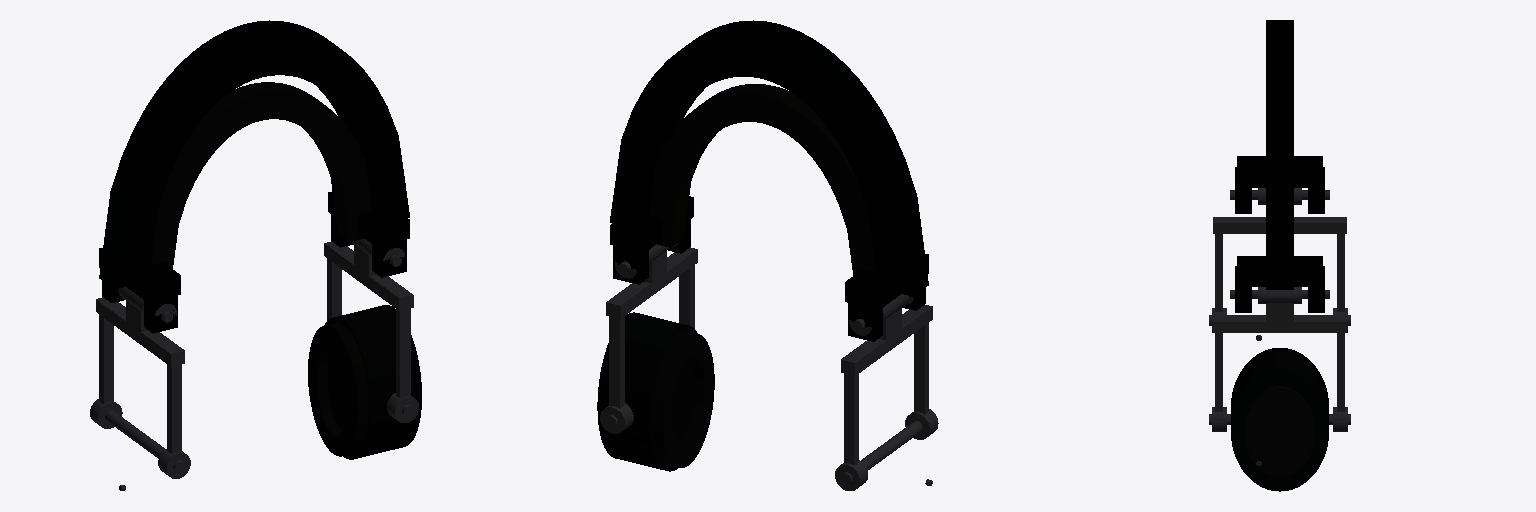
robot.urdf — fold_flat_noise_canceling_headphones:
<robot name="fold_flat_noise_canceling_headphones">
  <link name="headband">
    <visual name="outer_arch">
      <geometry>
        <mesh filename="assets/meshes/headband_arch.obj" />
        </geometry>
      <material name="matte_black_plastic">
        <color rgba="0.005 0.006 0.007 1" />
        </material>
      </visual>
    <visual name="inner_pad">
      <geometry>
        <mesh filename="assets/meshes/headband_pad.obj" />
        </geometry>
      <material name="soft_charcoal_cushion">
        <color rgba="0.025 0.023 0.022 1" />
        </material>
      </visual>
    <visual name="left_hinge_bridge">
      <origin xyz="-0.112 0 0.116" rpy="0 0 0" />
      <geometry>
        <box size="0.033 0.082 0.018" />
        </geometry>
      <material name="matte_black_plastic">
        <color rgba="0.005 0.006 0.007 1" />
        </material>
      </visual>
    <visual name="left_front_hinge_ear">
      <origin xyz="-0.112 -0.035 0.097" rpy="0 0 0" />
      <geometry>
        <box size="0.025 0.016 0.038" />
        </geometry>
      <material name="matte_black_plastic">
        <color rgba="0.005 0.006 0.007 1" />
        </material>
      </visual>
    <visual name="left_front_hinge_knuckle">
      <origin xyz="-0.112 -0.035 0.092" rpy="1.5708 0 0" />
      <geometry>
        <cylinder radius="0.011" length="0.016" />
        </geometry>
      <material name="dark_anodized_metal">
        <color rgba="0.17 0.17 0.18 1" />
        </material>
      </visual>
    <visual name="left_rear_hinge_ear">
      <origin xyz="-0.112 0.035 0.097" rpy="0 0 0" />
      <geometry>
        <box size="0.025 0.016 0.038" />
        </geometry>
      <material name="matte_black_plastic">
        <color rgba="0.005 0.006 0.007 1" />
        </material>
      </visual>
    <visual name="left_rear_hinge_knuckle">
      <origin xyz="-0.112 0.035 0.092" rpy="1.5708 0 0" />
      <geometry>
        <cylinder radius="0.011" length="0.016" />
        </geometry>
      <material name="dark_anodized_metal">
        <color rgba="0.17 0.17 0.18 1" />
        </material>
      </visual>
    <visual name="left_fold_pin">
      <origin xyz="-0.112 0 0.092" rpy="1.5708 0 0" />
      <geometry>
        <cylinder radius="0.0045" length="0.096" />
        </geometry>
      <material name="dark_anodized_metal">
        <color rgba="0.17 0.17 0.18 1" />
        </material>
      </visual>
    <visual name="right_hinge_bridge">
      <origin xyz="0.112 0 0.116" rpy="0 0 0" />
      <geometry>
        <box size="0.033 0.082 0.018" />
        </geometry>
      <material name="matte_black_plastic">
        <color rgba="0.005 0.006 0.007 1" />
        </material>
      </visual>
    <visual name="right_front_hinge_ear">
      <origin xyz="0.112 -0.035 0.097" rpy="0 0 0" />
      <geometry>
        <box size="0.025 0.016 0.038" />
        </geometry>
      <material name="matte_black_plastic">
        <color rgba="0.005 0.006 0.007 1" />
        </material>
      </visual>
    <visual name="right_front_hinge_knuckle">
      <origin xyz="0.112 -0.035 0.092" rpy="1.5708 0 0" />
      <geometry>
        <cylinder radius="0.011" length="0.016" />
        </geometry>
      <material name="dark_anodized_metal">
        <color rgba="0.17 0.17 0.18 1" />
        </material>
      </visual>
    <visual name="right_rear_hinge_ear">
      <origin xyz="0.112 0.035 0.097" rpy="0 0 0" />
      <geometry>
        <box size="0.025 0.016 0.038" />
        </geometry>
      <material name="matte_black_plastic">
        <color rgba="0.005 0.006 0.007 1" />
        </material>
      </visual>
    <visual name="right_rear_hinge_knuckle">
      <origin xyz="0.112 0.035 0.092" rpy="1.5708 0 0" />
      <geometry>
        <cylinder radius="0.011" length="0.016" />
        </geometry>
      <material name="dark_anodized_metal">
        <color rgba="0.17 0.17 0.18 1" />
        </material>
      </visual>
    <visual name="right_fold_pin">
      <origin xyz="0.112 0 0.092" rpy="1.5708 0 0" />
      <geometry>
        <cylinder radius="0.0045" length="0.096" />
        </geometry>
      <material name="dark_anodized_metal">
        <color rgba="0.17 0.17 0.18 1" />
        </material>
      </visual>
    <collision name="outer_arch">
      <geometry>
        <mesh filename="assets/meshes/headband_arch.obj" />
        </geometry>
      </collision>
    <collision name="inner_pad">
      <geometry>
        <mesh filename="assets/meshes/headband_pad.obj" />
        </geometry>
      </collision>
    <collision name="left_hinge_bridge">
      <origin xyz="-0.112 0 0.116" rpy="0 0 0" />
      <geometry>
        <box size="0.033 0.082 0.018" />
        </geometry>
      </collision>
    <collision name="left_front_hinge_ear">
      <origin xyz="-0.112 -0.035 0.097" rpy="0 0 0" />
      <geometry>
        <box size="0.025 0.016 0.038" />
        </geometry>
      </collision>
    <collision name="left_front_hinge_knuckle">
      <origin xyz="-0.112 -0.035 0.092" rpy="1.5708 0 0" />
      <geometry>
        <cylinder radius="0.011" length="0.016" />
        </geometry>
      </collision>
    <collision name="left_rear_hinge_ear">
      <origin xyz="-0.112 0.035 0.097" rpy="0 0 0" />
      <geometry>
        <box size="0.025 0.016 0.038" />
        </geometry>
      </collision>
    <collision name="left_rear_hinge_knuckle">
      <origin xyz="-0.112 0.035 0.092" rpy="1.5708 0 0" />
      <geometry>
        <cylinder radius="0.011" length="0.016" />
        </geometry>
      </collision>
    <collision name="left_fold_pin">
      <origin xyz="-0.112 0 0.092" rpy="1.5708 0 0" />
      <geometry>
        <cylinder radius="0.0045" length="0.096" />
        </geometry>
      </collision>
    <collision name="right_hinge_bridge">
      <origin xyz="0.112 0 0.116" rpy="0 0 0" />
      <geometry>
        <box size="0.033 0.082 0.018" />
        </geometry>
      </collision>
    <collision name="right_front_hinge_ear">
      <origin xyz="0.112 -0.035 0.097" rpy="0 0 0" />
      <geometry>
        <box size="0.025 0.016 0.038" />
        </geometry>
      </collision>
    <collision name="right_front_hinge_knuckle">
      <origin xyz="0.112 -0.035 0.092" rpy="1.5708 0 0" />
      <geometry>
        <cylinder radius="0.011" length="0.016" />
        </geometry>
      </collision>
    <collision name="right_rear_hinge_ear">
      <origin xyz="0.112 0.035 0.097" rpy="0 0 0" />
      <geometry>
        <box size="0.025 0.016 0.038" />
        </geometry>
      </collision>
    <collision name="right_rear_hinge_knuckle">
      <origin xyz="0.112 0.035 0.092" rpy="1.5708 0 0" />
      <geometry>
        <cylinder radius="0.011" length="0.016" />
        </geometry>
      </collision>
    <collision name="right_fold_pin">
      <origin xyz="0.112 0 0.092" rpy="1.5708 0 0" />
      <geometry>
        <cylinder radius="0.0045" length="0.096" />
        </geometry>
      </collision>
    </link>
  <link name="left_yoke">
    <visual name="fold_barrel">
      <origin xyz="0 0 0" rpy="1.5708 0 0" />
      <geometry>
        <cylinder radius="0.0095" length="0.042" />
        </geometry>
      <material name="dark_anodized_metal">
        <color rgba="0.17 0.17 0.18 1" />
        </material>
      </visual>
    <visual name="fold_neck">
      <origin xyz="0 0 -0.014" rpy="0 0 0" />
      <geometry>
        <box size="0.014 0.026 0.026" />
        </geometry>
      <material name="dark_anodized_metal">
        <color rgba="0.17 0.17 0.18 1" />
        </material>
      </visual>
    <visual name="top_bridge">
      <origin xyz="0 0 -0.032" rpy="0 0 0" />
      <geometry>
        <box size="0.014 0.128 0.012" />
        </geometry>
      <material name="dark_anodized_metal">
        <color rgba="0.17 0.17 0.18 1" />
        </material>
      </visual>
    <visual name="front_arm">
      <origin xyz="0 -0.058 -0.083" rpy="0 0 0" />
      <geometry>
        <box size="0.01 0.008 0.106" />
        </geometry>
      <material name="dark_anodized_metal">
        <color rgba="0.17 0.17 0.18 1" />
        </material>
      </visual>
    <visual name="pivot_collar_front">
      <origin xyz="0 -0.058 -0.132" rpy="1.5708 0 0" />
      <geometry>
        <cylinder radius="0.012" length="0.014" />
        </geometry>
      <material name="dark_anodized_metal">
        <color rgba="0.17 0.17 0.18 1" />
        </material>
      </visual>
    <visual name="rear_arm">
      <origin xyz="0 0.058 -0.083" rpy="0 0 0" />
      <geometry>
        <box size="0.01 0.008 0.106" />
        </geometry>
      <material name="dark_anodized_metal">
        <color rgba="0.17 0.17 0.18 1" />
        </material>
      </visual>
    <visual name="pivot_collar_rear">
      <origin xyz="0 0.058 -0.132" rpy="1.5708 0 0" />
      <geometry>
        <cylinder radius="0.012" length="0.014" />
        </geometry>
      <material name="dark_anodized_metal">
        <color rgba="0.17 0.17 0.18 1" />
        </material>
      </visual>
    <collision name="fold_barrel">
      <origin xyz="0 0 0" rpy="1.5708 0 0" />
      <geometry>
        <cylinder radius="0.0095" length="0.042" />
        </geometry>
      </collision>
    <collision name="fold_neck">
      <origin xyz="0 0 -0.014" rpy="0 0 0" />
      <geometry>
        <box size="0.014 0.026 0.026" />
        </geometry>
      </collision>
    <collision name="top_bridge">
      <origin xyz="0 0 -0.032" rpy="0 0 0" />
      <geometry>
        <box size="0.014 0.128 0.012" />
        </geometry>
      </collision>
    <collision name="front_arm">
      <origin xyz="0 -0.058 -0.083" rpy="0 0 0" />
      <geometry>
        <box size="0.01 0.008 0.106" />
        </geometry>
      </collision>
    <collision name="pivot_collar_front">
      <origin xyz="0 -0.058 -0.132" rpy="1.5708 0 0" />
      <geometry>
        <cylinder radius="0.012" length="0.014" />
        </geometry>
      </collision>
    <collision name="rear_arm">
      <origin xyz="0 0.058 -0.083" rpy="0 0 0" />
      <geometry>
        <box size="0.01 0.008 0.106" />
        </geometry>
      </collision>
    <collision name="pivot_collar_rear">
      <origin xyz="0 0.058 -0.132" rpy="1.5708 0 0" />
      <geometry>
        <cylinder radius="0.012" length="0.014" />
        </geometry>
      </collision>
    </link>
  <link name="left_cup">
    <visual name="oval_shell">
      <geometry>
        <mesh filename="assets/meshes/left_cup_shell.obj" />
        </geometry>
      <material name="satin_black_shell">
        <color rgba="0.015 0.016 0.018 1" />
        </material>
      </visual>
    <visual name="ear_cushion">
      <origin xyz="0.028 0 0" rpy="0 0 0" />
      <geometry>
        <mesh filename="assets/meshes/left_ear_cushion.obj" />
        </geometry>
      <material name="soft_charcoal_cushion">
        <color rgba="0.025 0.023 0.022 1" />
        </material>
      </visual>
    <visual name="outer_plate">
      <origin xyz="-0.027 0 0" rpy="0 0 0" />
      <geometry>
        <mesh filename="assets/meshes/left_outer_plate.obj" />
        </geometry>
      <material name="smoked_accent_plate">
        <color rgba="0.035 0.038 0.043 1" />
        </material>
      </visual>
    <visual name="pivot_pin">
      <origin xyz="0 0 0" rpy="1.5708 0 0" />
      <geometry>
        <cylinder radius="0.0052" length="0.136" />
        </geometry>
      <material name="dark_anodized_metal">
        <color rgba="0.17 0.17 0.18 1" />
        </material>
      </visual>
    <visual name="mic_port">
      <origin xyz="-0.029 -0.02 -0.032" rpy="0 1.5708 0" />
      <geometry>
        <cylinder radius="0.0026" length="0.004" />
        </geometry>
      <material name="dark_anodized_metal">
        <color rgba="0.17 0.17 0.18 1" />
        </material>
      </visual>
    <collision name="oval_shell">
      <geometry>
        <mesh filename="assets/meshes/left_cup_shell.obj" />
        </geometry>
      </collision>
    <collision name="ear_cushion">
      <origin xyz="0.028 0 0" rpy="0 0 0" />
      <geometry>
        <mesh filename="assets/meshes/left_ear_cushion.obj" />
        </geometry>
      </collision>
    <collision name="outer_plate">
      <origin xyz="-0.027 0 0" rpy="0 0 0" />
      <geometry>
        <mesh filename="assets/meshes/left_outer_plate.obj" />
        </geometry>
      </collision>
    <collision name="pivot_pin">
      <origin xyz="0 0 0" rpy="1.5708 0 0" />
      <geometry>
        <cylinder radius="0.0052" length="0.136" />
        </geometry>
      </collision>
    <collision name="mic_port">
      <origin xyz="-0.029 -0.02 -0.032" rpy="0 1.5708 0" />
      <geometry>
        <cylinder radius="0.0026" length="0.004" />
        </geometry>
      </collision>
    </link>
  <link name="right_yoke">
    <visual name="fold_barrel">
      <origin xyz="0 0 0" rpy="1.5708 0 0" />
      <geometry>
        <cylinder radius="0.0095" length="0.042" />
        </geometry>
      <material name="dark_anodized_metal">
        <color rgba="0.17 0.17 0.18 1" />
        </material>
      </visual>
    <visual name="fold_neck">
      <origin xyz="0 0 -0.014" rpy="0 0 0" />
      <geometry>
        <box size="0.014 0.026 0.026" />
        </geometry>
      <material name="dark_anodized_metal">
        <color rgba="0.17 0.17 0.18 1" />
        </material>
      </visual>
    <visual name="top_bridge">
      <origin xyz="0 0 -0.032" rpy="0 0 0" />
      <geometry>
        <box size="0.014 0.128 0.012" />
        </geometry>
      <material name="dark_anodized_metal">
        <color rgba="0.17 0.17 0.18 1" />
        </material>
      </visual>
    <visual name="front_arm">
      <origin xyz="0 -0.058 -0.083" rpy="0 0 0" />
      <geometry>
        <box size="0.01 0.008 0.106" />
        </geometry>
      <material name="dark_anodized_metal">
        <color rgba="0.17 0.17 0.18 1" />
        </material>
      </visual>
    <visual name="pivot_collar_front">
      <origin xyz="0 -0.058 -0.132" rpy="1.5708 0 0" />
      <geometry>
        <cylinder radius="0.012" length="0.014" />
        </geometry>
      <material name="dark_anodized_metal">
        <color rgba="0.17 0.17 0.18 1" />
        </material>
      </visual>
    <visual name="rear_arm">
      <origin xyz="0 0.058 -0.083" rpy="0 0 0" />
      <geometry>
        <box size="0.01 0.008 0.106" />
        </geometry>
      <material name="dark_anodized_metal">
        <color rgba="0.17 0.17 0.18 1" />
        </material>
      </visual>
    <visual name="pivot_collar_rear">
      <origin xyz="0 0.058 -0.132" rpy="1.5708 0 0" />
      <geometry>
        <cylinder radius="0.012" length="0.014" />
        </geometry>
      <material name="dark_anodized_metal">
        <color rgba="0.17 0.17 0.18 1" />
        </material>
      </visual>
    <collision name="fold_barrel">
      <origin xyz="0 0 0" rpy="1.5708 0 0" />
      <geometry>
        <cylinder radius="0.0095" length="0.042" />
        </geometry>
      </collision>
    <collision name="fold_neck">
      <origin xyz="0 0 -0.014" rpy="0 0 0" />
      <geometry>
        <box size="0.014 0.026 0.026" />
        </geometry>
      </collision>
    <collision name="top_bridge">
      <origin xyz="0 0 -0.032" rpy="0 0 0" />
      <geometry>
        <box size="0.014 0.128 0.012" />
        </geometry>
      </collision>
    <collision name="front_arm">
      <origin xyz="0 -0.058 -0.083" rpy="0 0 0" />
      <geometry>
        <box size="0.01 0.008 0.106" />
        </geometry>
      </collision>
    <collision name="pivot_collar_front">
      <origin xyz="0 -0.058 -0.132" rpy="1.5708 0 0" />
      <geometry>
        <cylinder radius="0.012" length="0.014" />
        </geometry>
      </collision>
    <collision name="rear_arm">
      <origin xyz="0 0.058 -0.083" rpy="0 0 0" />
      <geometry>
        <box size="0.01 0.008 0.106" />
        </geometry>
      </collision>
    <collision name="pivot_collar_rear">
      <origin xyz="0 0.058 -0.132" rpy="1.5708 0 0" />
      <geometry>
        <cylinder radius="0.012" length="0.014" />
        </geometry>
      </collision>
    </link>
  <link name="right_cup">
    <visual name="oval_shell">
      <geometry>
        <mesh filename="assets/meshes/right_cup_shell.obj" />
        </geometry>
      <material name="satin_black_shell">
        <color rgba="0.015 0.016 0.018 1" />
        </material>
      </visual>
    <visual name="ear_cushion">
      <origin xyz="-0.028 0 0" rpy="0 0 0" />
      <geometry>
        <mesh filename="assets/meshes/right_ear_cushion.obj" />
        </geometry>
      <material name="soft_charcoal_cushion">
        <color rgba="0.025 0.023 0.022 1" />
        </material>
      </visual>
    <visual name="outer_plate">
      <origin xyz="0.027 0 0" rpy="0 0 0" />
      <geometry>
        <mesh filename="assets/meshes/right_outer_plate.obj" />
        </geometry>
      <material name="smoked_accent_plate">
        <color rgba="0.035 0.038 0.043 1" />
        </material>
      </visual>
    <visual name="pivot_pin">
      <origin xyz="0 0 0" rpy="1.5708 0 0" />
      <geometry>
        <cylinder radius="0.0052" length="0.136" />
        </geometry>
      <material name="dark_anodized_metal">
        <color rgba="0.17 0.17 0.18 1" />
        </material>
      </visual>
    <visual name="mic_port">
      <origin xyz="0.029 -0.02 -0.032" rpy="0 1.5708 0" />
      <geometry>
        <cylinder radius="0.0026" length="0.004" />
        </geometry>
      <material name="dark_anodized_metal">
        <color rgba="0.17 0.17 0.18 1" />
        </material>
      </visual>
    <collision name="oval_shell">
      <geometry>
        <mesh filename="assets/meshes/right_cup_shell.obj" />
        </geometry>
      </collision>
    <collision name="ear_cushion">
      <origin xyz="-0.028 0 0" rpy="0 0 0" />
      <geometry>
        <mesh filename="assets/meshes/right_ear_cushion.obj" />
        </geometry>
      </collision>
    <collision name="outer_plate">
      <origin xyz="0.027 0 0" rpy="0 0 0" />
      <geometry>
        <mesh filename="assets/meshes/right_outer_plate.obj" />
        </geometry>
      </collision>
    <collision name="pivot_pin">
      <origin xyz="0 0 0" rpy="1.5708 0 0" />
      <geometry>
        <cylinder radius="0.0052" length="0.136" />
        </geometry>
      </collision>
    <collision name="mic_port">
      <origin xyz="0.029 -0.02 -0.032" rpy="0 1.5708 0" />
      <geometry>
        <cylinder radius="0.0026" length="0.004" />
        </geometry>
      </collision>
    </link>
  <joint name="left_fold" type="revolute">
    <origin xyz="-0.112 0 0.092" rpy="0 0 0" />
    <parent link="headband" />
    <child link="left_yoke" />
    <axis xyz="0 -1 0" />
    <limit effort="4" velocity="2" lower="0" upper="1.45" />
    </joint>
  <joint name="left_swivel" type="revolute">
    <origin xyz="0 0 -0.132" rpy="0 0 0" />
    <parent link="left_yoke" />
    <child link="left_cup" />
    <axis xyz="0 1 0" />
    <limit effort="2" velocity="2.5" lower="0" upper="1.5708" />
    </joint>
  <joint name="right_fold" type="revolute">
    <origin xyz="0.112 0 0.092" rpy="0 0 0" />
    <parent link="headband" />
    <child link="right_yoke" />
    <axis xyz="0 1 0" />
    <limit effort="4" velocity="2" lower="0" upper="1.45" />
    </joint>
  <joint name="right_swivel" type="revolute">
    <origin xyz="0 0 -0.132" rpy="0 0 0" />
    <parent link="right_yoke" />
    <child link="right_cup" />
    <axis xyz="0 -1 0" />
    <limit effort="2" velocity="2.5" lower="0" upper="1.5708" />
    </joint>
  </robot>

--- Facts derived from the render (not from the file) ---
Views: 3 orthographic renders of the robot side by side, from view 1: azimuth 30°, elevation 25°; view 2: azimuth 150°, elevation 25°; view 3: azimuth 270°, elevation 25°.
Model fold_flat_noise_canceling_headphones with 5 links and 4 joints (4 revolute), rooted at headband, posed every joint at zero.
Links seen in each view (by area): view 1: headband, right_cup, left_yoke, right_yoke, left_cup; view 2: headband, right_cup, left_yoke, right_yoke, left_cup; view 3: headband, right_cup, right_yoke, left_yoke.
Boxes of the visible links, box(x1,y1,x2,y2) form: headband: box(99, 20, 409, 333); right_cup: box(308, 305, 421, 459); left_yoke: box(90, 287, 190, 478); right_yoke: box(324, 239, 418, 422); left_cup: box(105, 410, 185, 490); headband: box(610, 20, 928, 341); right_cup: box(597, 312, 714, 471); left_yoke: box(835, 294, 938, 490); right_yoke: box(600, 244, 697, 433); left_cup: box(840, 421, 932, 485); headband: box(1230, 20, 1329, 312); right_cup: box(1209, 348, 1350, 491); right_yoke: box(1212, 287, 1347, 431); left_yoke: box(1212, 188, 1347, 332).
Size in the robot's own frame: 0.29 by 0.136 by 0.421 metres.
Meshes: 8 distinct files referenced, 5 mesh visuals loaded (5 OBJ); not drawn: 3 (reference not matched to a file when rendering).
